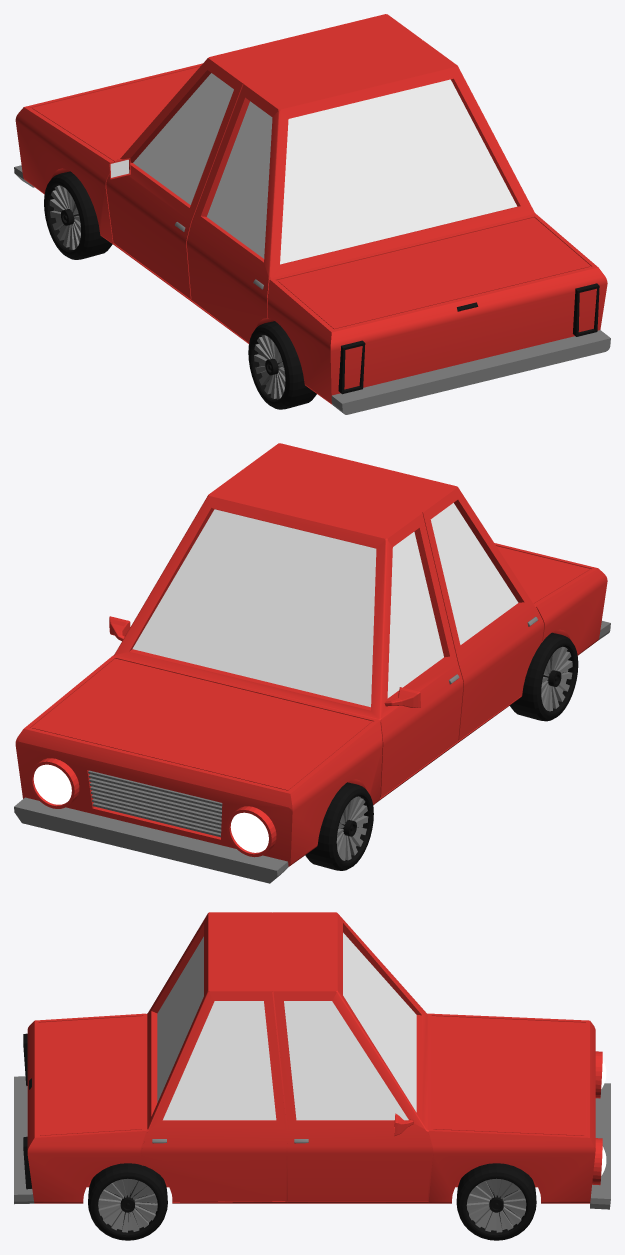
Rendered from Car_Low_Poly.glb.
3 views of the same model, one above another, from view 1: azimuth 30°, elevation 25°; view 2: azimuth 150°, elevation 25°; view 3: azimuth 270°, elevation 25° (orthographic). The views are drawn at different scales.
Parts seen in each view (by area): view 1: BoodyCar, BackCrash, BackWhiles, While-L-F, LightBack; view 2: BoodyCar, FrontCrash, LightFront, BackWhiles, While-L-F, Mirror; view 3: BoodyCar, BackWhiles, While-R-F, BackCrash, FrontCrash, LightFront, LightBack.
Part boxes in pixels (x1,y1,x2,y2): BoodyCar: (15, 14, 607, 404); BackCrash: (331, 330, 610, 414); BackWhiles: (248, 321, 316, 409); While-L-F: (44, 171, 112, 259); LightBack: (338, 283, 599, 394); BoodyCar: (15, 443, 607, 866); FrontCrash: (14, 797, 288, 883); LightFront: (29, 758, 276, 857); BackWhiles: (510, 632, 578, 721); While-L-F: (305, 782, 373, 870); Mirror: (109, 616, 420, 707); BoodyCar: (27, 912, 595, 1203); BackWhiles: (88, 1163, 167, 1240); While-R-F: (456, 1163, 536, 1240); BackCrash: (14, 1076, 34, 1204); FrontCrash: (590, 1083, 610, 1209); LightFront: (592, 1051, 606, 1185); LightBack: (23, 1033, 32, 1189).
Size of what is drawn, in the model's own units: 4.89 by 3.79 by 9.03.
